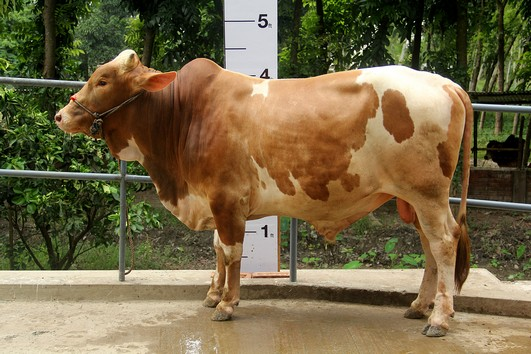cow: (52, 40, 476, 343)
